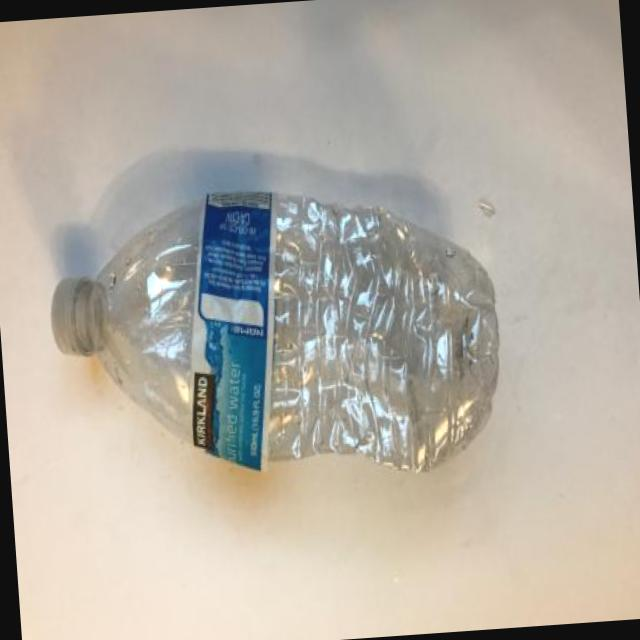Recycle: (51, 164, 500, 478)
